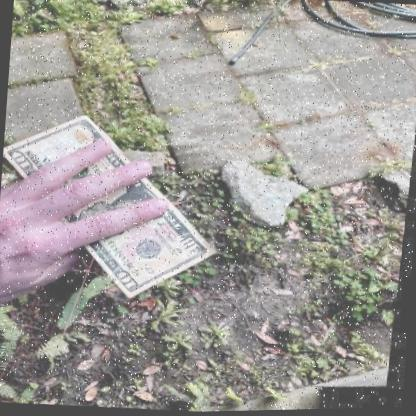ten-front: (3, 114, 219, 300)
